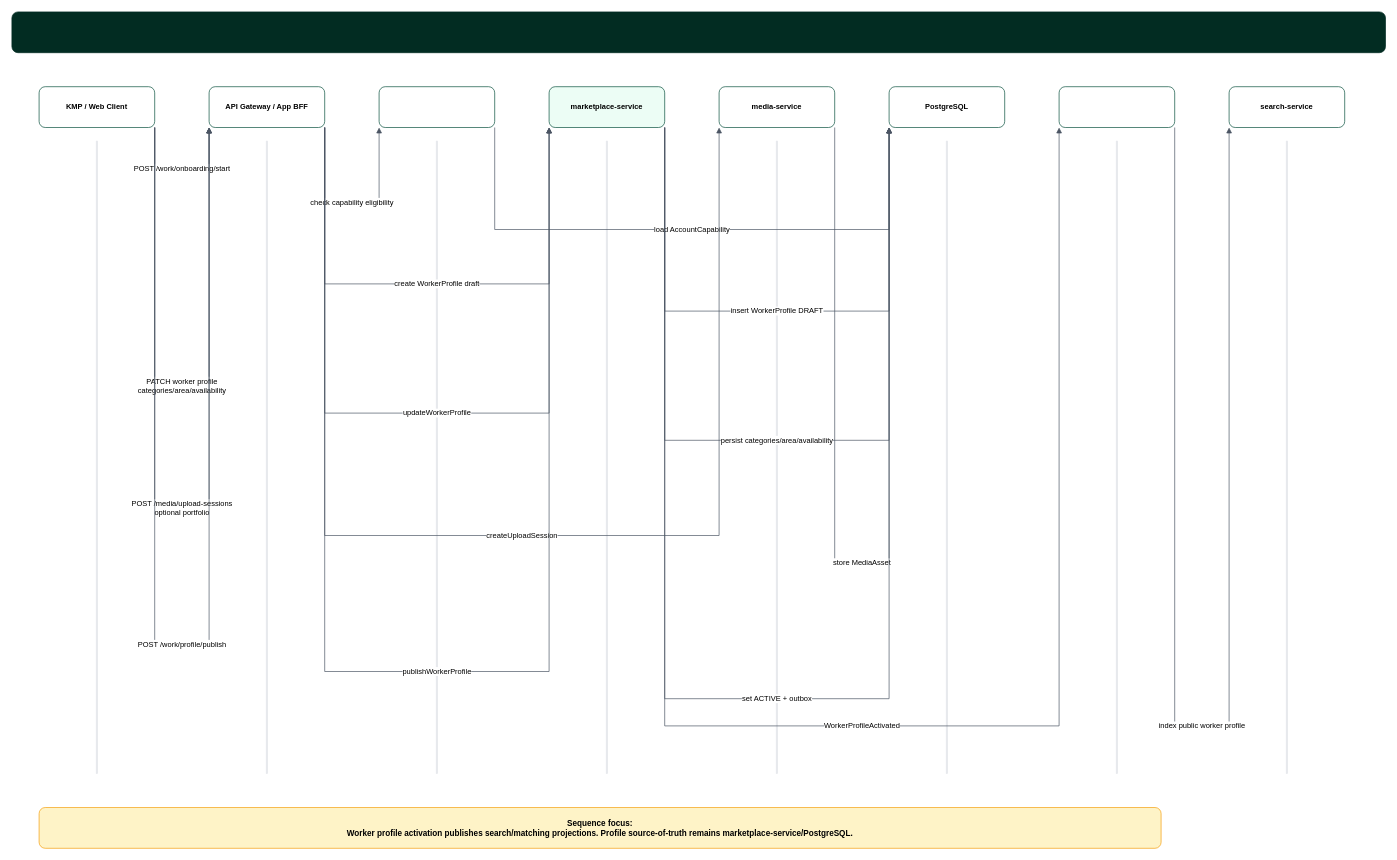
Some shapes in this 1397 by 860 pixel diagram are drawn without their labels. Each missing label, with the box of its shape:
identity-service: (378, 86, 495, 128)
Outbox / Kafka: (1058, 86, 1175, 128)
Viaverse Worker Onboarding — Sequence Diagram: (11, 11, 1386, 53)
